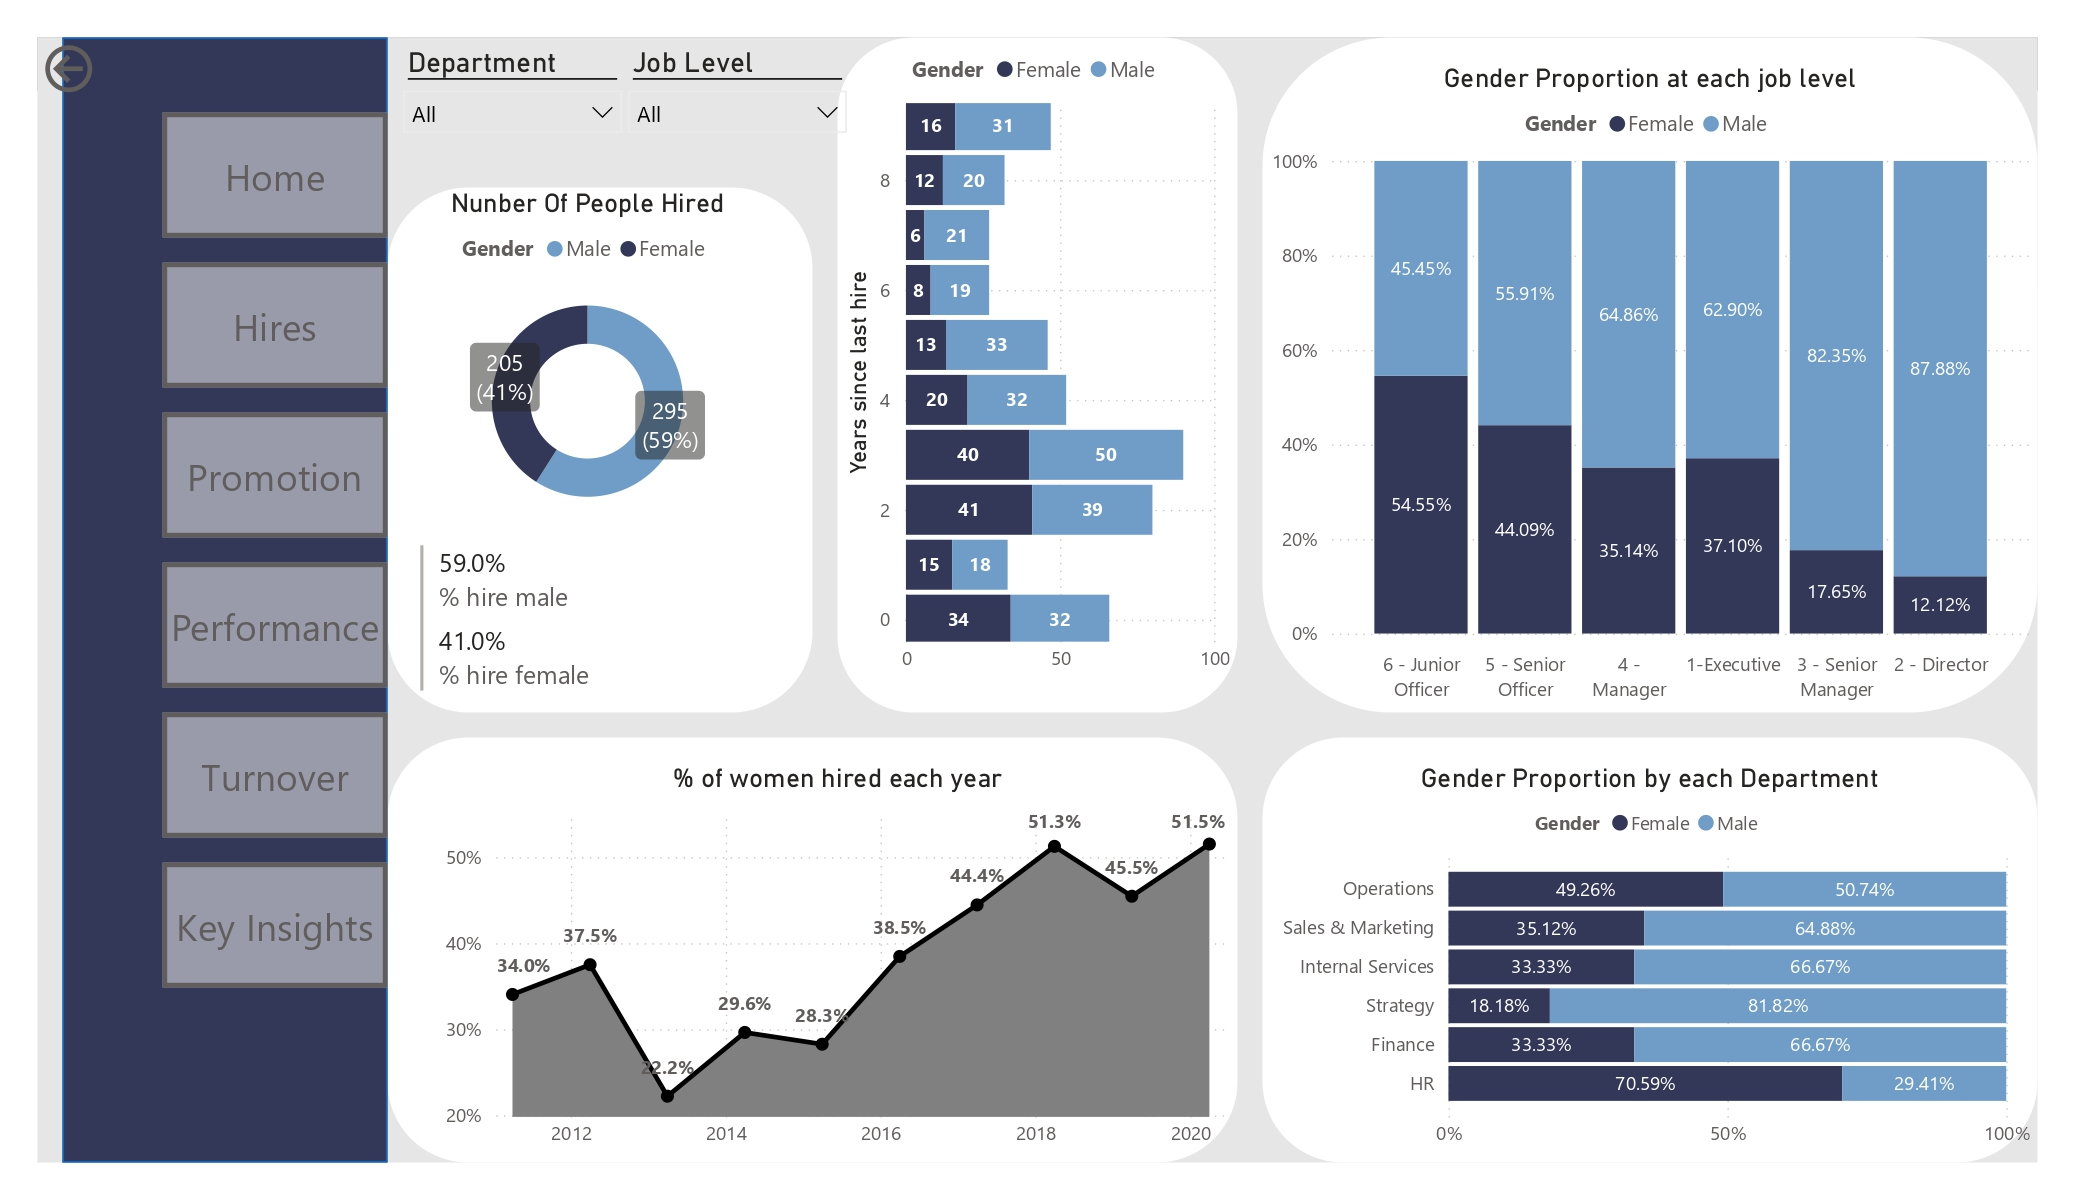

This screenshot's page, from the dashboard's own definition file:
{"tool":"powerbi","page":{"name":"Hires","canvas":[1280,720],"ordinal":1},"visuals":[{"type":"shape","box":[224,448,544,272],"z":0},{"type":"shape","box":[784,0,496,432],"z":1000},{"type":"shape","box":[784,448,496,272],"z":2000},{"type":"shape","box":[512,0,256,432],"z":3000},{"type":"shape","box":[224,96,272,336],"z":4000},{"type":"shape","box":[16,0,208,720],"z":5000},{"type":"actionButton","box":[80,144,144,80],"z":6000},{"type":"actionButton","box":[80,240,144,80],"z":7000},{"type":"actionButton","box":[80,336,144,80],"z":8000},{"type":"actionButton","box":[80,432,144,80],"z":9000},{"type":"actionButton","box":[80,528,144,80],"z":10000},{"type":"actionButton","box":[80,48,144,80],"z":11000},{"type":"donutChart","title":"Nunber Of People Hired","fields":{"Y":["CountNonNull(Pharma Group AG.New hire FY20?)"],"Category":["Pharma Group AG.Gender"]},"box":[224,96,256,224],"z":12000},{"type":"barChart","fields":{"Category":["Pharma Group AG.Years since last hire"],"Series":["Pharma Group AG.Gender"],"Y":["CountNonNull(Pharma Group AG.Gender)"]},"box":[512,0,256,416],"z":13000},{"type":"hundredPercentStackedBarChart","title":"Gender Proportion by each Department","fields":{"Category":["Pharma Group AG.Last Department in FY20"],"Y":["CountNonNull(Pharma Group AG.Promotion in FY20?)"],"Series":["Pharma Group AG.Gender"]},"box":[784,464,496,256],"z":14000},{"type":"hundredPercentStackedColumnChart","title":"Gender Proportion at each job level","fields":{"Category":["Pharma Group AG.Job Level group for PRA"],"Series":["Pharma Group AG.Gender"],"Y":["CountNonNull(Pharma Group AG.Employee ID)"]},"box":[784,16,496,416],"z":15000},{"type":"actionButton","box":[0,0,100,40],"z":16000},{"type":"areaChart","title":"% of women hired each year","fields":{"Y":["Measure.% hire female"],"Category":["Pharma Group AG.Last hire date.Variation.Date Hierarchy.Year","Pharma Group AG.Last hire date.Variation.Date Hierarchy.Month","Pharma Group AG.Last hire date.Variation.Date Hierarchy.Day"]},"box":[256,464,512,256],"z":17000},{"type":"multiRowCard","fields":{"Values":["Measure.% hire male","Measure.% hire female"]},"box":[240,320,144,112],"z":18000},{"type":"slicer","fields":{"Values":["Pharma Group AG.Last Department in FY20"]},"box":[224,0,160,64],"z":19000},{"type":"slicer","fields":{"Values":["Pharma Group AG.Job Level group for PRA"]},"box":[368,0,160,64],"z":20000}]}

Visuals, with their boxes on the page's 1280x720 design canvas (x1, y1, x2, y2). These are canvas units, not pixel positions in the 2075x1200 screenshot, which may show the page scaled, cropped or inside an application window:
shape: box=[224, 448, 768, 720]
shape: box=[784, 0, 1280, 432]
shape: box=[784, 448, 1280, 720]
shape: box=[512, 0, 768, 432]
shape: box=[224, 96, 496, 432]
shape: box=[16, 0, 224, 720]
actionButton: box=[80, 144, 224, 224]
actionButton: box=[80, 240, 224, 320]
actionButton: box=[80, 336, 224, 416]
actionButton: box=[80, 432, 224, 512]
actionButton: box=[80, 528, 224, 608]
actionButton: box=[80, 48, 224, 128]
"Nunber Of People Hired" donutChart: box=[224, 96, 480, 320]
barChart - Pharma Group AG.Years since last hire x Pharma Group AG.Gender: box=[512, 0, 768, 416]
"Gender Proportion by each Department" hundredPercentStackedBarChart: box=[784, 464, 1280, 720]
"Gender Proportion at each job level" hundredPercentStackedColumnChart: box=[784, 16, 1280, 432]
actionButton: box=[0, 0, 100, 40]
"% of women hired each year" areaChart: box=[256, 464, 768, 720]
multiRowCard - Measure.% hire male x Measure.% hire female: box=[240, 320, 384, 432]
slicer - Pharma Group AG.Last Department in FY20: box=[224, 0, 384, 64]
slicer - Pharma Group AG.Job Level group for PRA: box=[368, 0, 528, 64]
